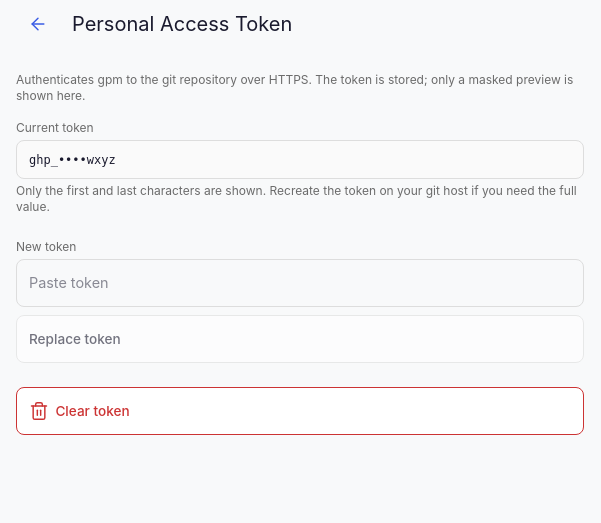
PatPage › Replace with a token that fails verify does NOT save
In the password field with id "new-pat": (300, 283) [16,259,584,307], type "ghp_badtokenvalue12345"
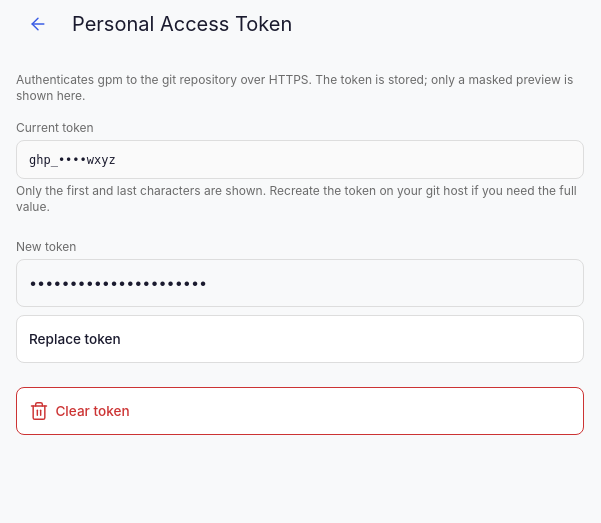
Click the button "Replace token": (75, 339) [16,315,584,363]
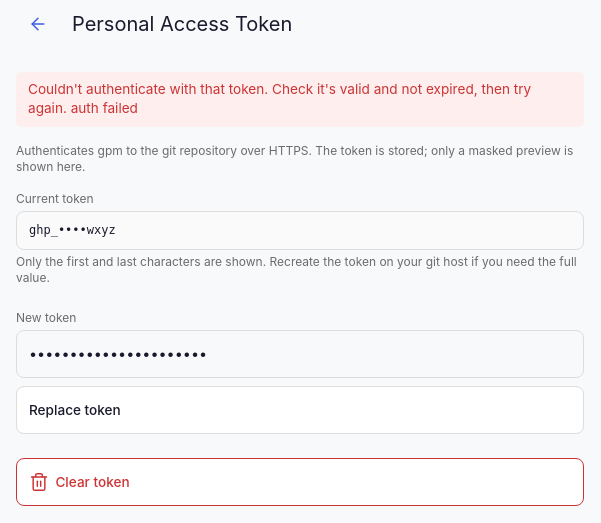
Expected: the text "Couldn't authenticate" is shown, [28,81,531,116]
